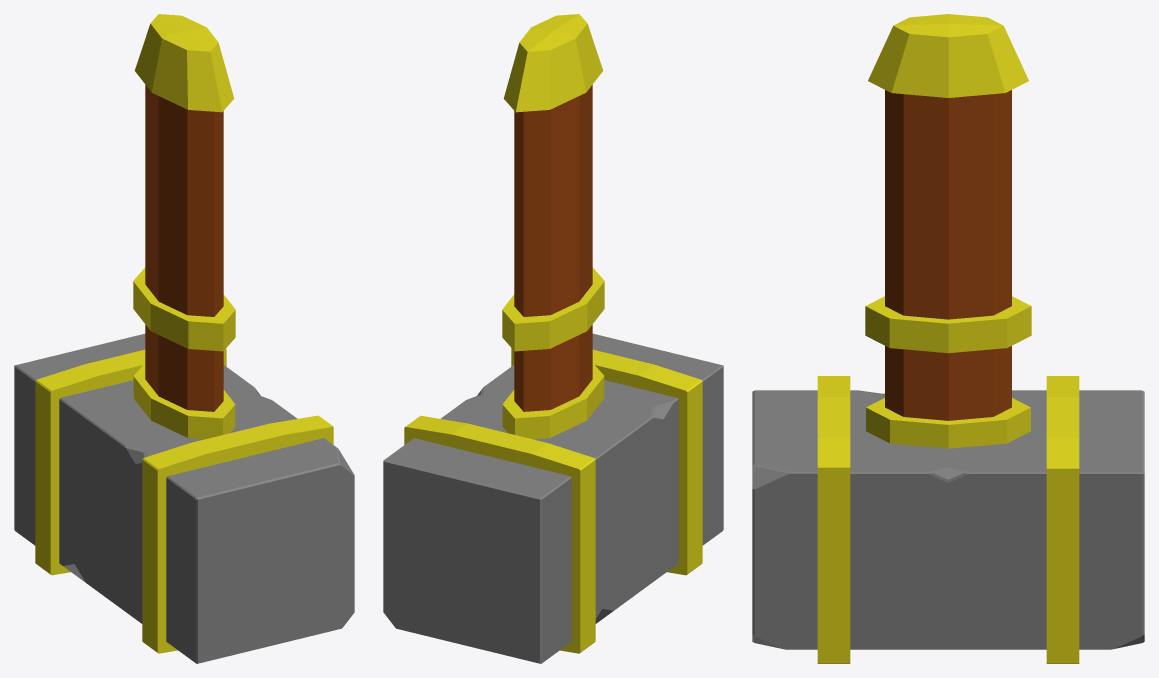
File: Hammer.fbx
3 renders of one model, left to right at view 1: azimuth 30°, elevation 25°; view 2: azimuth 150°, elevation 25°; view 3: azimuth 270°, elevation 25°, orthographic. The views are drawn at different scales.
Visible parts, largest first — view 1: Cube; view 2: Cube; view 3: Cube.
Boxes of the visible parts, left/top/right/bottom form: Cube: left=14, top=14, right=354, bottom=663; Cube: left=383, top=14, right=723, bottom=663; Cube: left=752, top=14, right=1144, bottom=663.
Bounding box in the file's own units: 55.44 × 169 × 100.
